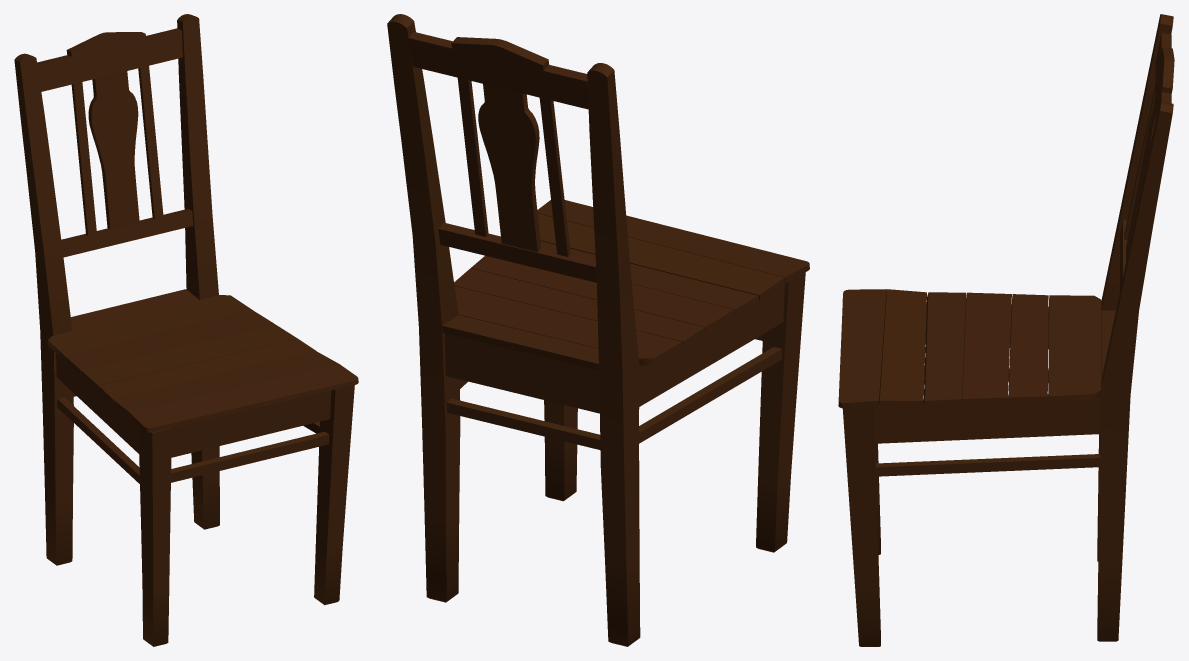
Rendered from chair.glb.
3 views of the same model, side by side, from view 1: azimuth 30°, elevation 25°; view 2: azimuth 150°, elevation 25°; view 3: azimuth 270°, elevation 25° (orthographic). The views are drawn at different scales.
Parts seen in each view (by area): view 1: painted_wooden_chair_01; view 2: painted_wooden_chair_01; view 3: painted_wooden_chair_01.
Part boxes in pixels (<box>): painted_wooden_chair_01: <box>14,14,358,646</box>; painted_wooden_chair_01: <box>387,14,809,646</box>; painted_wooden_chair_01: <box>838,14,1174,646</box>.
Bounding box in the file's own units: 0.4318 × 0.9565 × 0.5398.
